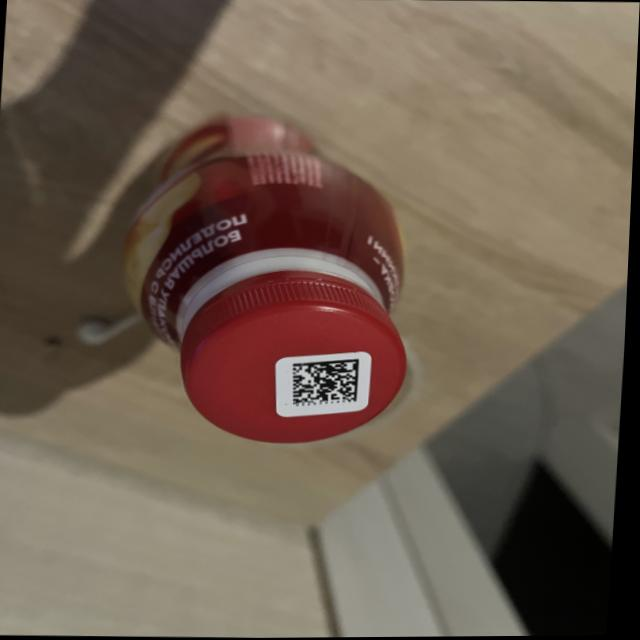datamatrix: (294, 358, 362, 408)
